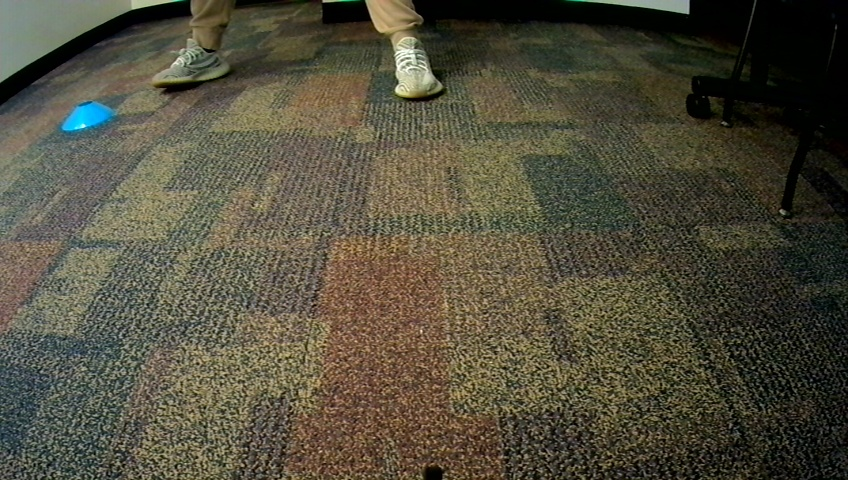cone: (58, 99, 122, 132)
